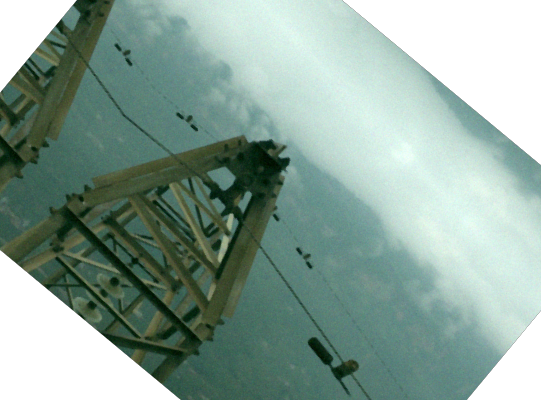damper: (113, 40, 134, 69), (175, 110, 200, 132), (295, 245, 314, 271)
damper_defect: (305, 334, 361, 397)
